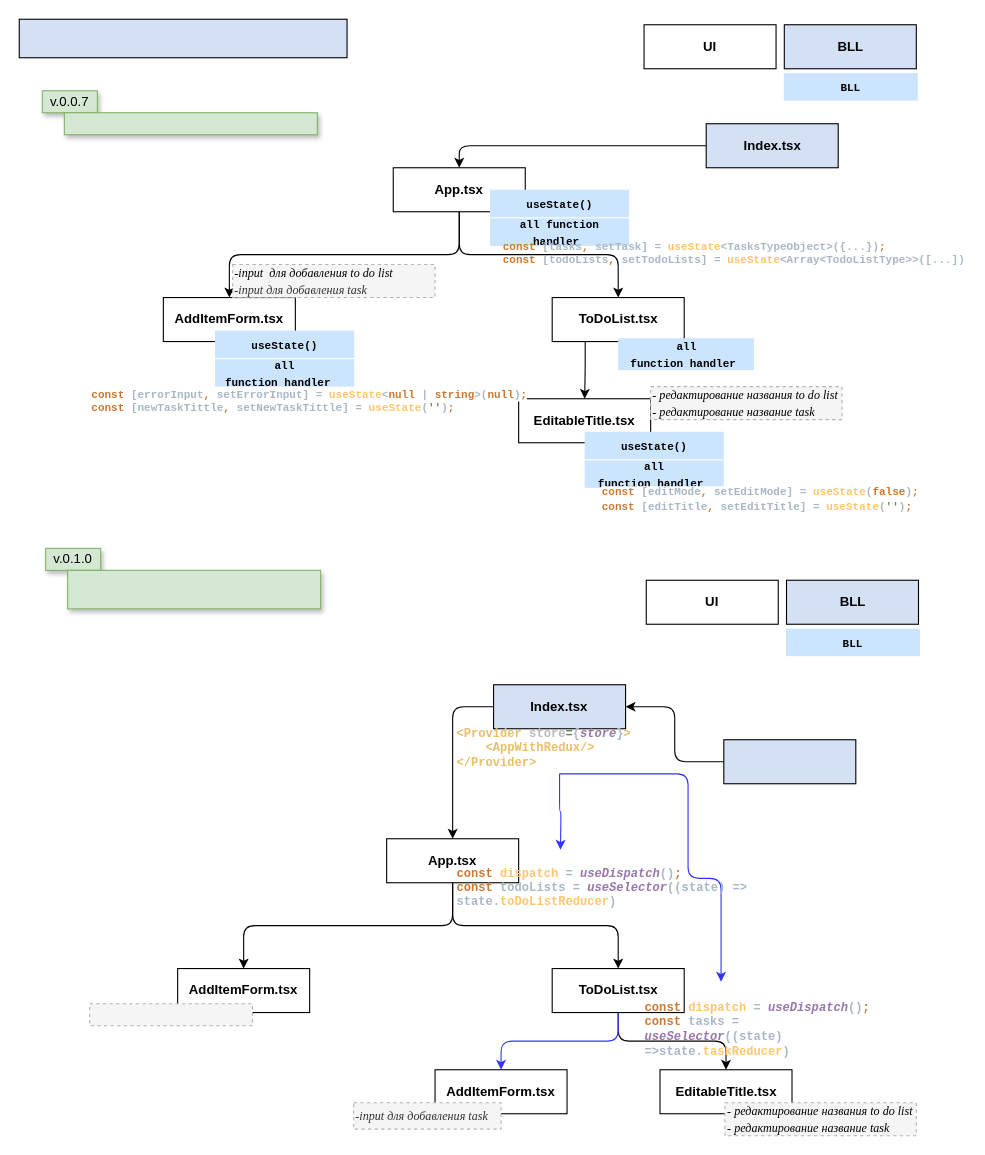
Some shapes in this 985 by 1155 pixel diagram are drawn without their labels. Here are the shapes that lost their labels. From the top down, the centre of each, then its label:
At (182,38): "ToDoList".
At (191,124): "промежуточная структура проекта".
At (194,591): "redux, react-redux используем useDispatch(), useSelector()".
At (789,761): "store.ts".
At (170,1014): "-input для добавления to do list".
